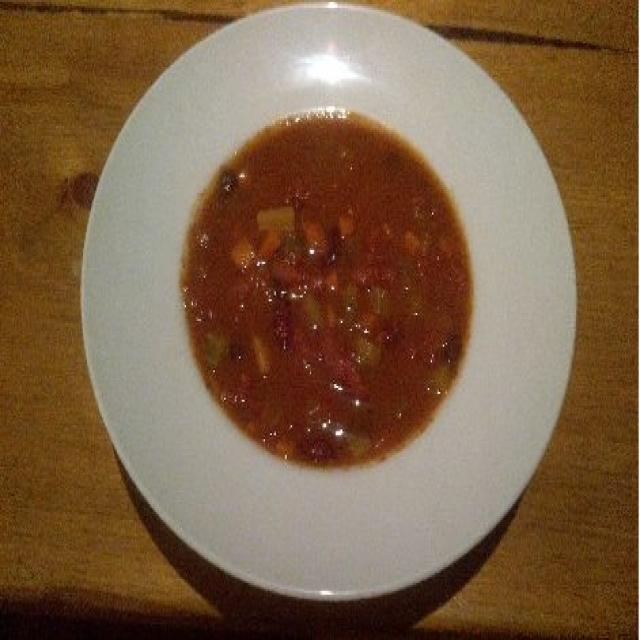汤锅炖物: (73, 18, 586, 610)
